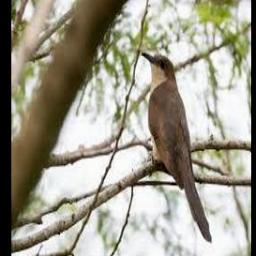Cuckoo: (142, 52, 212, 242)
